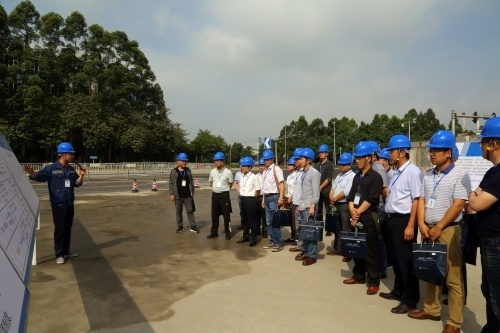blue: (426, 127, 455, 166), (479, 116, 500, 158), (386, 134, 410, 165), (353, 142, 373, 168), (56, 142, 75, 164), (298, 147, 314, 168), (337, 152, 352, 173), (377, 148, 390, 169), (240, 156, 253, 173), (317, 143, 329, 161), (177, 151, 188, 169), (213, 151, 224, 168), (285, 155, 296, 172), (263, 148, 273, 165), (258, 157, 265, 172)
